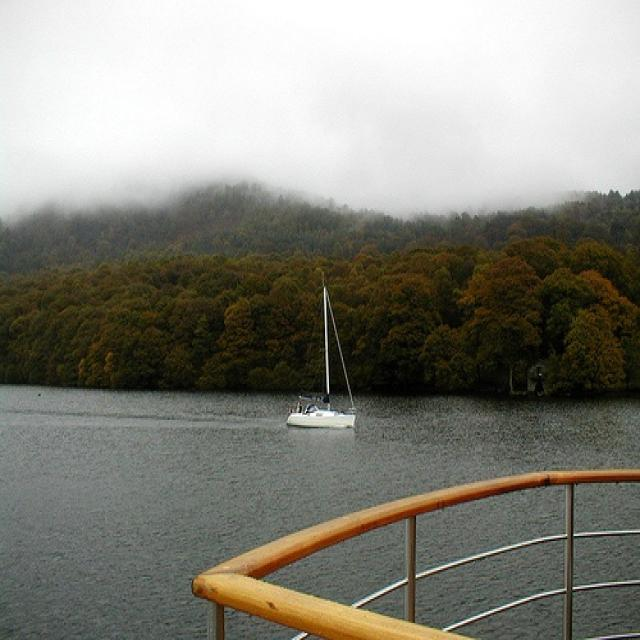boat: (287, 273, 358, 428)
